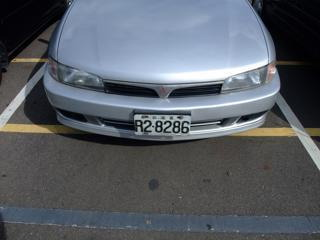plate: (132, 110, 193, 138)
